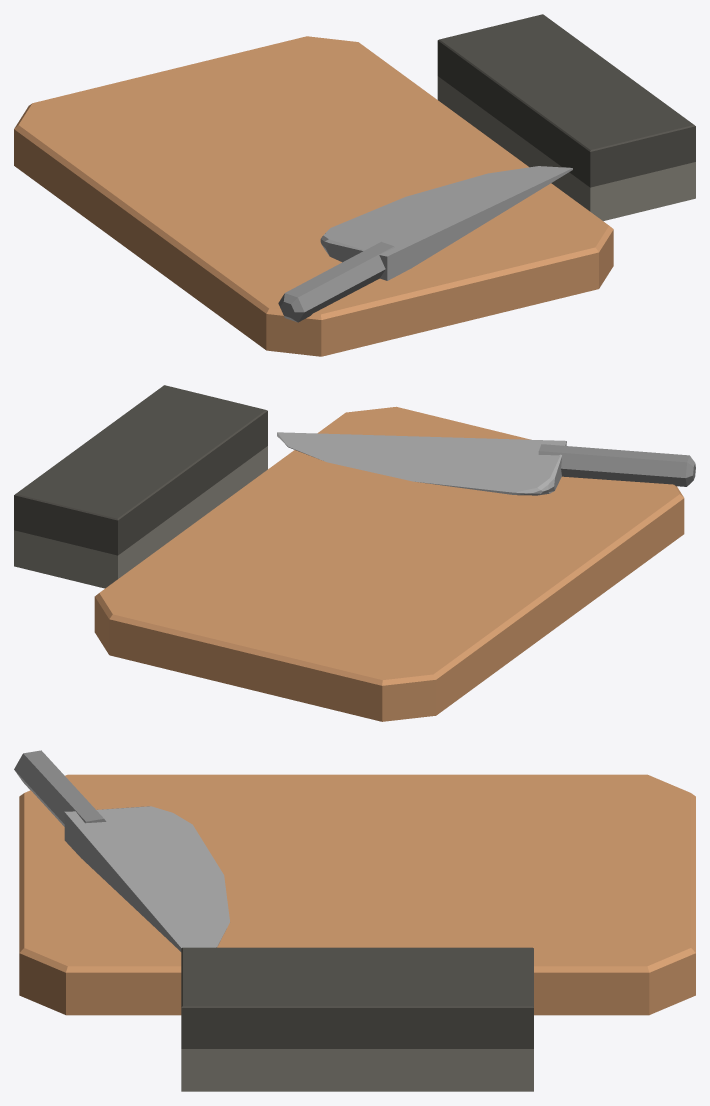
File: chopping_board.glb
3 views of the same model, one above another, from view 1: azimuth 30°, elevation 25°; view 2: azimuth 150°, elevation 25°; view 3: azimuth 270°, elevation 25° (orthographic). The views are drawn at different scales.
Parts seen in each view (by area): view 1: board, Cube, knife_blade, knife_handle; view 2: board, Cube, knife_blade, knife_handle; view 3: board, Cube, knife_blade, knife_handle.
Part boxes in pixels (box(x1,y1,x2,y2)): board: box(14, 36, 613, 356); Cube: box(437, 14, 695, 221); knife_blade: box(320, 166, 572, 280); knife_handle: box(278, 241, 394, 322); board: box(94, 406, 684, 721); Cube: box(14, 385, 267, 588); knife_blade: box(277, 432, 566, 495); knife_handle: box(538, 444, 695, 486); board: box(19, 774, 695, 1015); Cube: box(181, 947, 533, 1091); knife_blade: box(64, 806, 229, 951); knife_handle: box(14, 750, 106, 826).
Bounding box in the file's own units: 1.74 × 0.2548 × 1.85.
Materials: 4 (1 with a texture image).
